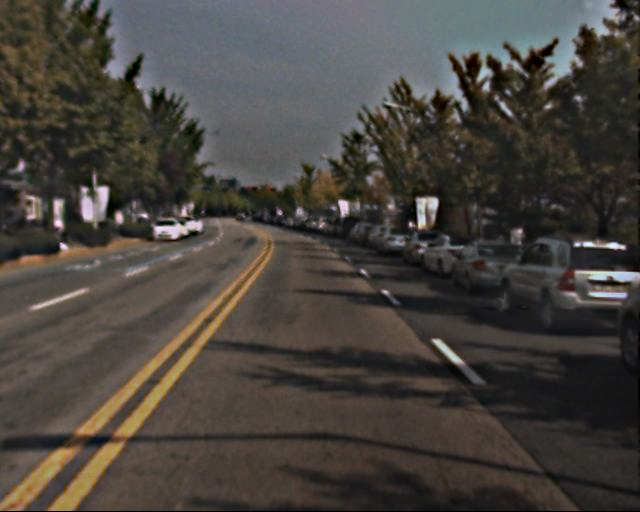person: (491, 221, 510, 267), (506, 219, 525, 265)
